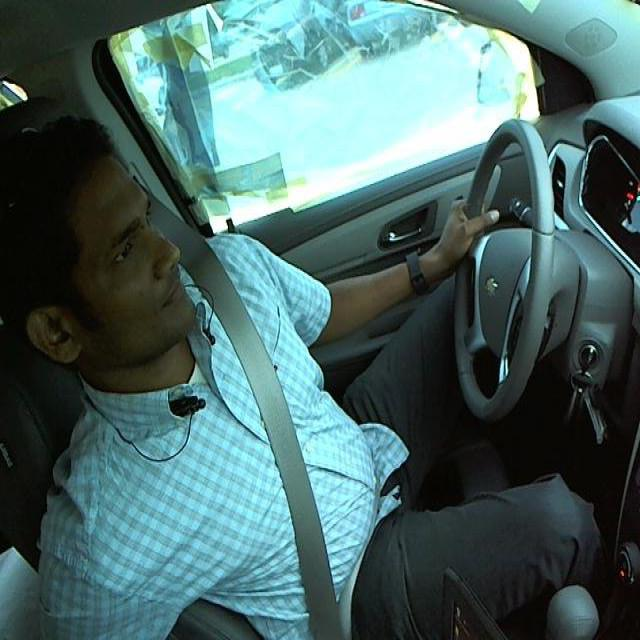seatbelt: (201, 296, 362, 616)
